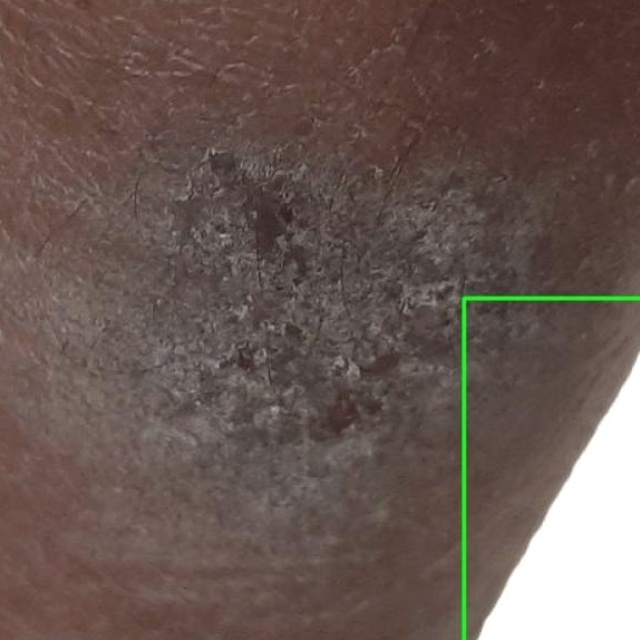Contact Dermatitis: (463, 298, 639, 639)
